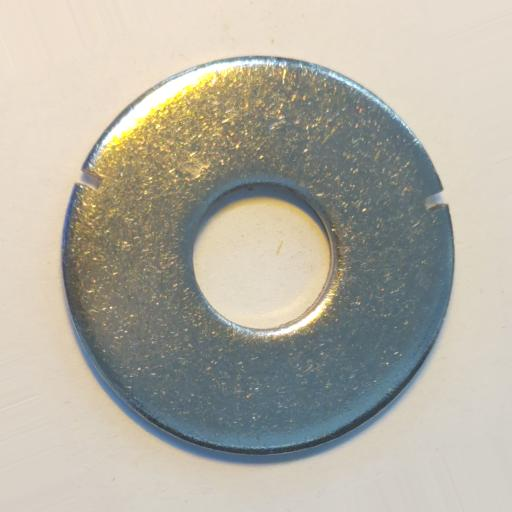burr: (73, 164, 106, 194), (421, 187, 449, 214)
